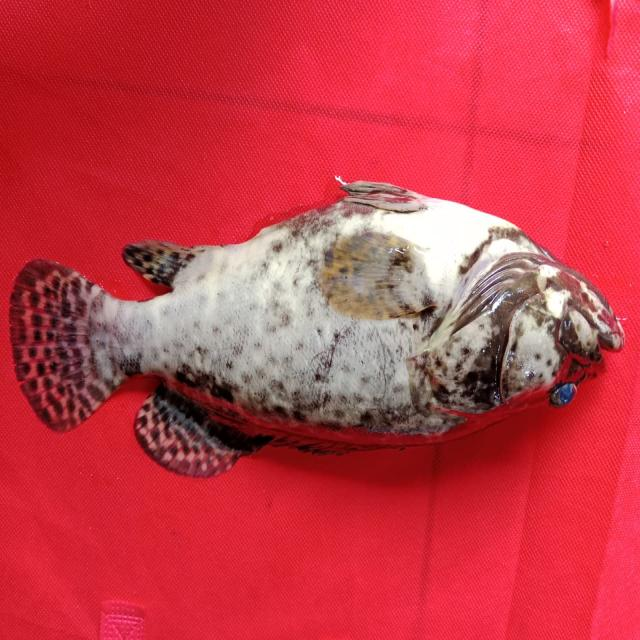ikan: (8, 174, 626, 479)
